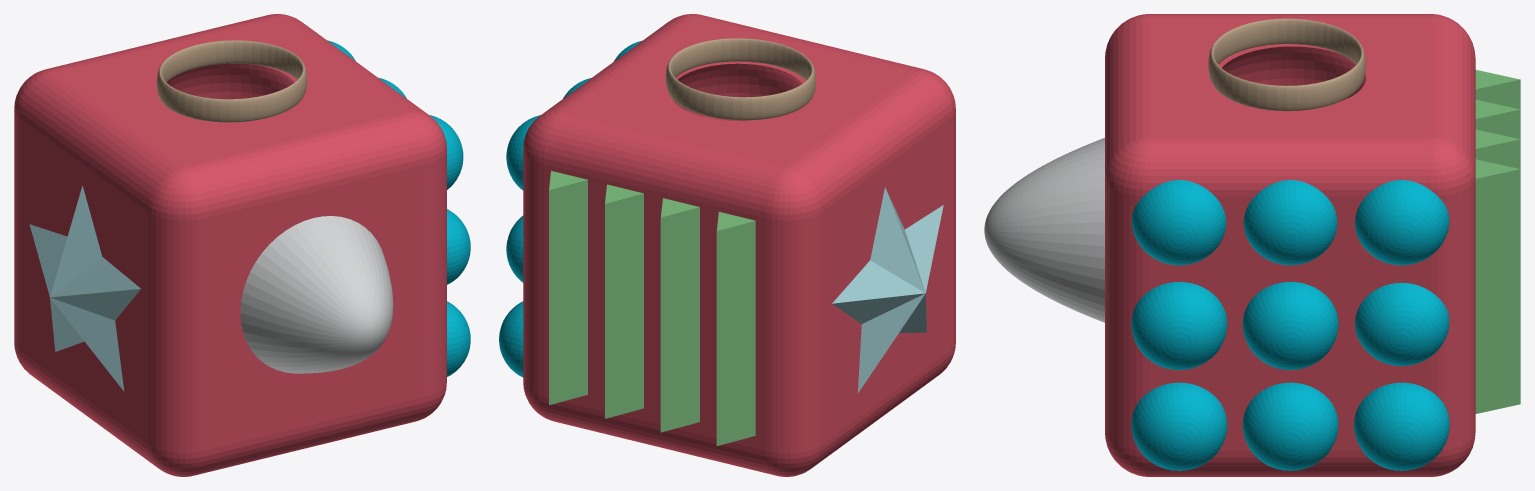
Rendered from Madison - Dreamy trio.glb.
The picture shows the model from 3 angles, left to right: view 1: azimuth 30°, elevation 25°; view 2: azimuth 150°, elevation 25°; view 3: azimuth 270°, elevation 25°; orthographic projection. The views are drawn at different scales.
Visible parts, largest first — view 1: Mesh_Mesh_head_geo.001_lambert2SG.001; view 2: Mesh_Mesh_head_geo.001_lambert2SG.001; view 3: Mesh_Mesh_head_geo.001_lambert2SG.001.
Boxes of the visible parts, x1,y1,x2,y2 form: Mesh_Mesh_head_geo.001_lambert2SG.001: (14,14,470,476); Mesh_Mesh_head_geo.001_lambert2SG.001: (499,14,955,476); Mesh_Mesh_head_geo.001_lambert2SG.001: (984,14,1520,476).
Bounding box in the file's own units: 0.05 × 0.043 × 0.0579.
